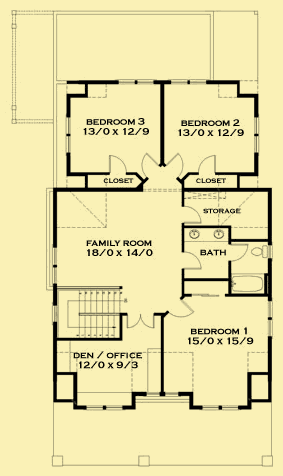door: (124, 307, 157, 335), (138, 150, 161, 181), (164, 149, 186, 180), (166, 297, 197, 319), (179, 248, 206, 273), (178, 203, 204, 228), (196, 152, 221, 177), (106, 152, 128, 178), (227, 241, 250, 265)
large sink: (246, 242, 277, 260)
small sink: (181, 226, 204, 245), (208, 226, 229, 243)
stairs: (55, 287, 122, 342)
tub: (230, 271, 265, 298)
windows: (49, 243, 62, 287), (249, 113, 262, 155), (199, 402, 241, 414), (166, 76, 208, 88), (82, 404, 127, 415), (63, 114, 75, 155), (115, 75, 156, 87), (144, 387, 179, 400), (264, 295, 273, 338), (49, 302, 61, 323)
